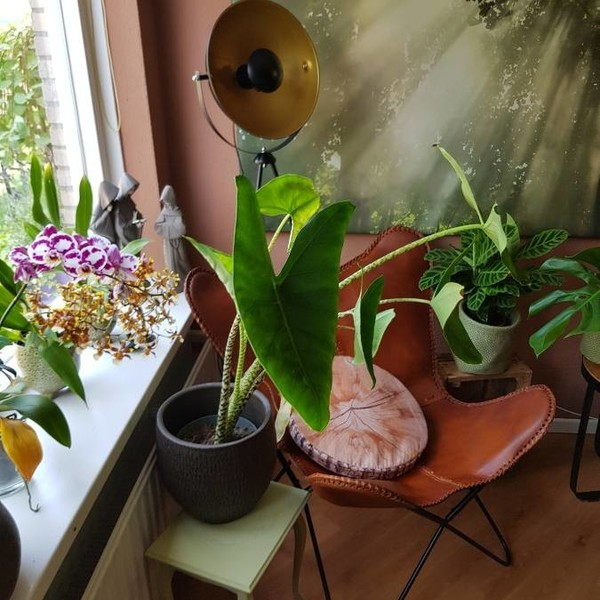obstacle: (148, 175, 318, 500), (435, 198, 567, 384)
